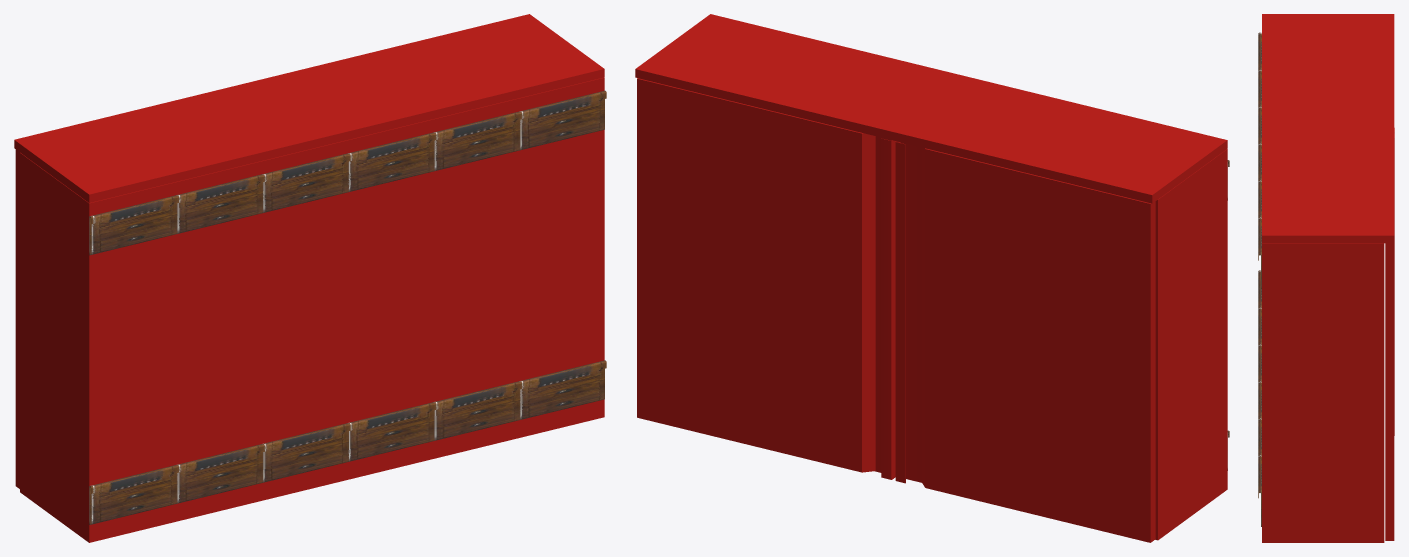
3 renders of one model, left to right at view 1: azimuth 30°, elevation 25°; view 2: azimuth 150°, elevation 25°; view 3: azimuth 270°, elevation 25°, orthographic. The views are drawn at different scales.
Parts seen in each view (by area): view 1: mesh6_mesh6-geometry, mesh3_mesh3-geometry, mesh2_mesh2-geometry, mesh4_mesh4-geometry, mesh7_mesh7-geometry, mesh8_mesh8-geometry; view 2: mesh8_mesh8-geometry, mesh9_mesh9-geometry, mesh3_mesh3-geometry, mesh4_mesh4-geometry; view 3: mesh7_mesh7-geometry, mesh3_mesh3-geometry, mesh9_mesh9-geometry, mesh2_mesh2-geometry.
Part boxes in pixels (<box>): mesh6_mesh6-geometry: <box>97,79,596,540</box>; mesh3_mesh3-geometry: <box>14,14,604,202</box>; mesh2_mesh2-geometry: <box>89,90,606,524</box>; mesh4_mesh4-geometry: <box>20,152,97,542</box>; mesh7_mesh7-geometry: <box>596,77,604,418</box>; mesh8_mesh8-geometry: <box>15,149,19,488</box>; mesh8_mesh8-geometry: <box>895,141,1155,542</box>; mesh9_mesh9-geometry: <box>637,78,895,479</box>; mesh3_mesh3-geometry: <box>635,14,1227,203</box>; mesh4_mesh4-geometry: <box>1155,149,1227,540</box>; mesh7_mesh7-geometry: <box>1262,243,1384,542</box>; mesh3_mesh3-geometry: <box>1262,14,1394,243</box>; mesh9_mesh9-geometry: <box>1385,134,1394,540</box>; mesh2_mesh2-geometry: <box>1258,32,1261,526</box>.
Bounding box in the file's own units: 0.8207 × 0.53 × 0.2136.
